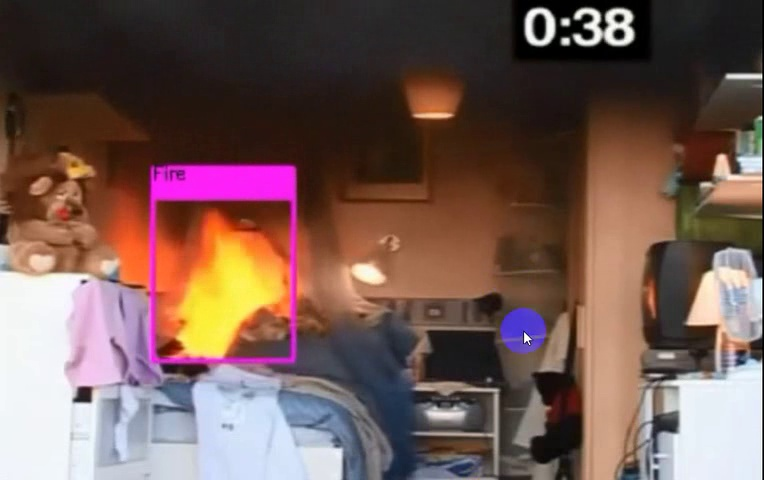fire: (160, 203, 293, 352)
